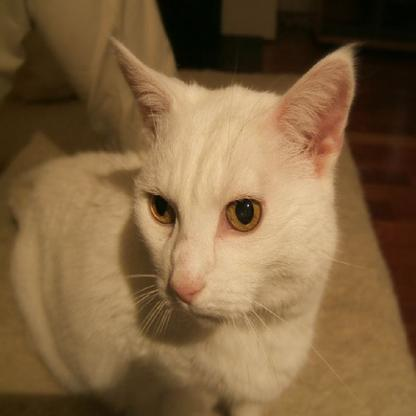Dog: (0, 53, 362, 415)
